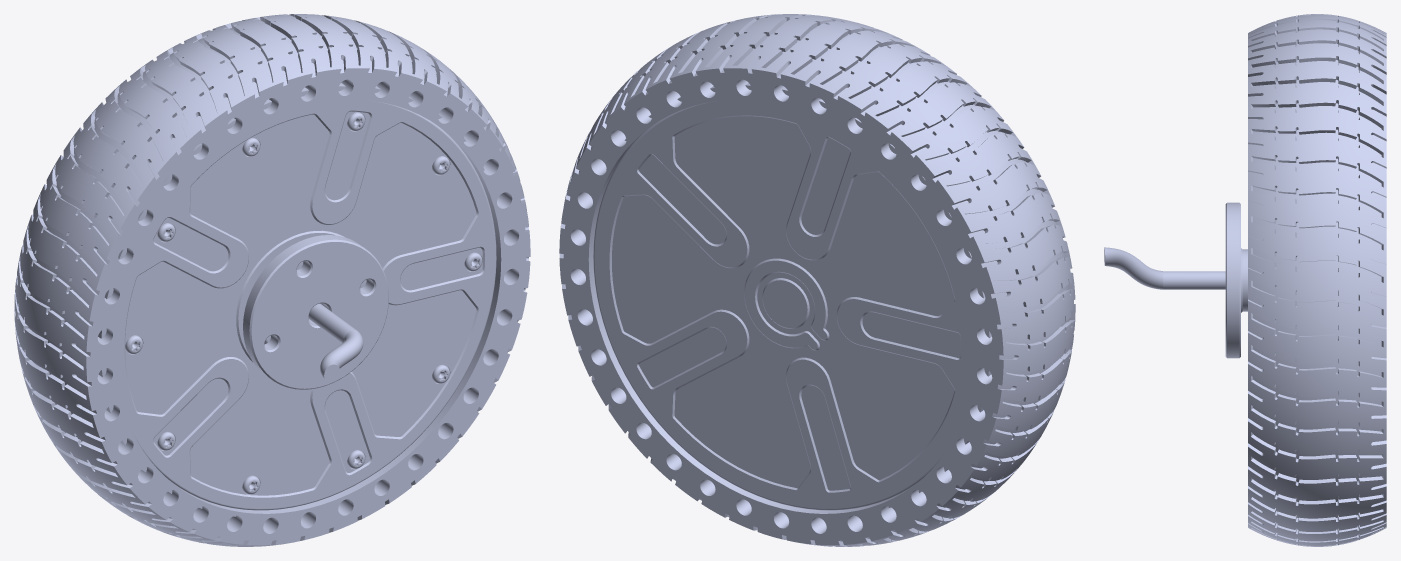
Rendered from wheel_right.dae.
The picture shows the model from 3 angles, left to right: view 1: azimuth 30°, elevation 25°; view 2: azimuth 150°, elevation 25°; view 3: azimuth 270°, elevation 25°; orthographic projection. The views are drawn at different scales.
Visible parts, largest first — view 1: wheel_right; view 2: wheel_right; view 3: wheel_right.
Part boxes in pixels (<box>): wheel_right: <box>14,14,530,546</box>; wheel_right: <box>559,14,1075,546</box>; wheel_right: <box>1104,14,1386,546</box>.
Bounding box in the file's own units: 0.1713 × 0.0908 × 0.1713.
